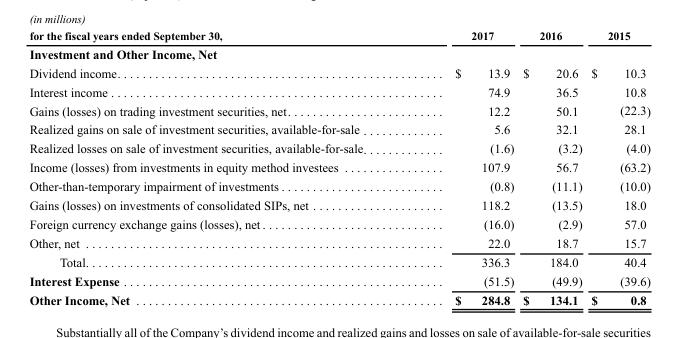table: (28, 28, 649, 306)
table column: (28, 28, 409, 306), (409, 28, 517, 306), (517, 28, 586, 306), (586, 28, 649, 306)
table column header: (28, 28, 649, 43)
table projected row header: (28, 43, 649, 62)
table row: (28, 43, 649, 62), (28, 62, 649, 81), (28, 81, 649, 100), (28, 100, 649, 119), (28, 119, 649, 138), (28, 138, 649, 157), (28, 157, 649, 176), (28, 176, 649, 195), (28, 195, 649, 214), (28, 214, 649, 233), (28, 233, 649, 252), (28, 252, 649, 271), (28, 271, 649, 290), (28, 290, 649, 306), (28, 28, 649, 43)
